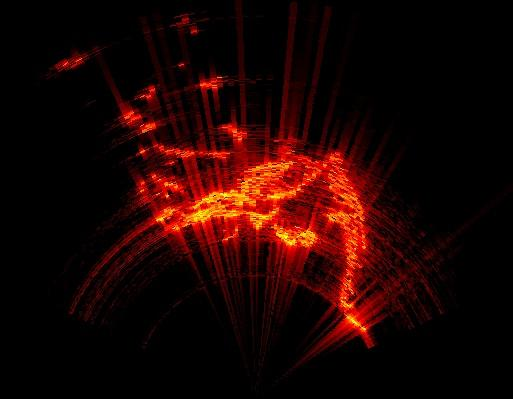shipwreck: (139, 149, 340, 247), (319, 170, 365, 305), (138, 144, 227, 166)
